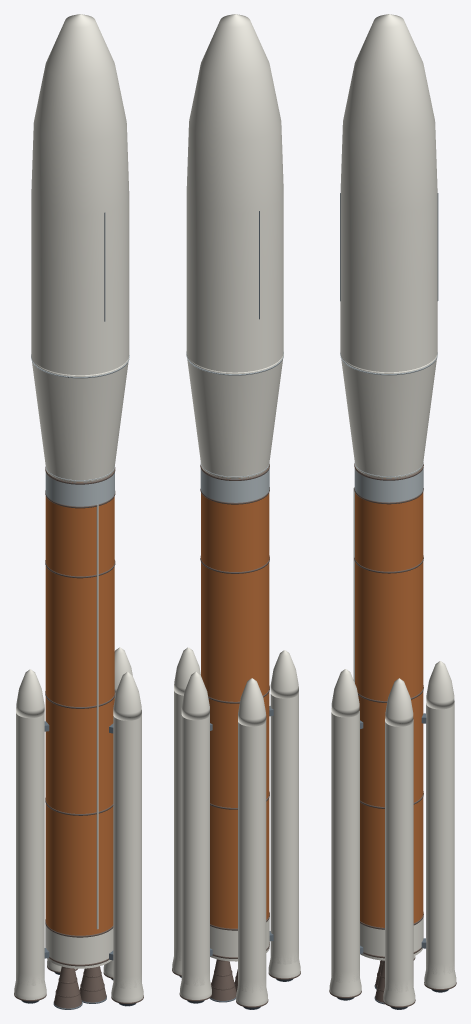
The model's file is perseverance_atlas_v_541.glb.
3 renders of one model, left to right at view 1: azimuth 30°, elevation 25°; view 2: azimuth 210°, elevation 25°; view 3: azimuth 270°, elevation 25°, orthographic.
Parts seen in each view (by area): view 1: atlas_v_core.mesh_Spray-on_insulation, atlas_v_fairing_l.mesh_Warm_white_enamel, atlas_v_boattail.mesh_Warm_white_enamel, atlas_v_fairing_r.mesh_Warm_white_enamel, atlas_v_srb_01.mesh_Warm_white_enamel, atlas_v_srb_04.mesh_Warm_white_enamel, atlas_v_core.mesh_Warm_white_enamel, atlas_v_core.mesh_Satin_aluminum, atlas_v_core.mesh_Pale_thermal_blanket, atlas_v_core.mesh_Heat-stained_alloy, atlas_v_srb_01.nose.mesh_Warm_white_enamel, atlas_v_srb_04.nose.mesh_Warm_white_enamel (+5 smaller); view 2: atlas_v_fairing_r.mesh_Warm_white_enamel, atlas_v_core.mesh_Spray-on_insulation, atlas_v_boattail.mesh_Warm_white_enamel, atlas_v_fairing_l.mesh_Warm_white_enamel, atlas_v_srb_02.mesh_Warm_white_enamel, atlas_v_srb_04.mesh_Warm_white_enamel, atlas_v_srb_03.mesh_Warm_white_enamel, atlas_v_srb_01.mesh_Warm_white_enamel, atlas_v_core.mesh_Satin_aluminum, atlas_v_srb_04.nose.mesh_Warm_white_enamel, atlas_v_srb_02.nose.mesh_Warm_white_enamel, atlas_v_srb_03.nose.mesh_Warm_white_enamel (+7 smaller); view 3: atlas_v_fairing_r.mesh_Warm_white_enamel, atlas_v_core.mesh_Spray-on_insulation, atlas_v_boattail.mesh_Warm_white_enamel, atlas_v_srb_03.mesh_Warm_white_enamel, atlas_v_srb_02.mesh_Warm_white_enamel, atlas_v_srb_01.mesh_Warm_white_enamel, atlas_v_core.mesh_Satin_aluminum, atlas_v_core.mesh_Warm_white_enamel, atlas_v_srb_03.nose.mesh_Warm_white_enamel, atlas_v_srb_01.nose.mesh_Warm_white_enamel, atlas_v_srb_02.nose.mesh_Warm_white_enamel, atlas_v_core.mesh_Heat-stained_alloy (+5 smaller).
Part boxes in pixels (x1,y1,x2,y2): atlas_v_core.mesh_Spray-on_insulation: (45,471,114,935); atlas_v_fairing_l.mesh_Warm_white_enamel: (31,14,104,375); atlas_v_boattail.mesh_Warm_white_enamel: (31,356,128,480); atlas_v_fairing_r.mesh_Warm_white_enamel: (80,14,129,372); atlas_v_srb_01.mesh_Warm_white_enamel: (113,715,141,988); atlas_v_srb_04.mesh_Warm_white_enamel: (16,713,44,985); atlas_v_core.mesh_Warm_white_enamel: (45,924,113,968); atlas_v_core.mesh_Satin_aluminum: (45,471,114,506); atlas_v_core.mesh_Pale_thermal_blanket: (96,504,98,929); atlas_v_core.mesh_Heat-stained_alloy: (45,467,115,966); atlas_v_srb_01.nose.mesh_Warm_white_enamel: (113,672,141,720); atlas_v_srb_04.nose.mesh_Warm_white_enamel: (16,669,44,718); atlas_v_fairing_r.mesh_Warm_white_enamel: (186,14,259,372); atlas_v_core.mesh_Spray-on_insulation: (201,467,269,928); atlas_v_boattail.mesh_Warm_white_enamel: (186,354,283,476); atlas_v_fairing_l.mesh_Warm_white_enamel: (235,14,283,369); atlas_v_srb_02.mesh_Warm_white_enamel: (181,715,209,986); atlas_v_srb_04.mesh_Warm_white_enamel: (270,693,298,964); atlas_v_srb_03.mesh_Warm_white_enamel: (238,721,266,992); atlas_v_srb_01.mesh_Warm_white_enamel: (174,691,183,960); atlas_v_core.mesh_Satin_aluminum: (200,468,269,502); atlas_v_srb_04.nose.mesh_Warm_white_enamel: (270,650,298,698); atlas_v_srb_02.nose.mesh_Warm_white_enamel: (181,672,209,720); atlas_v_srb_03.nose.mesh_Warm_white_enamel: (238,678,266,726); atlas_v_fairing_r.mesh_Warm_white_enamel: (340,14,437,372); atlas_v_core.mesh_Spray-on_insulation: (355,467,423,927); atlas_v_boattail.mesh_Warm_white_enamel: (340,352,437,476); atlas_v_srb_03.mesh_Warm_white_enamel: (426,703,454,974); atlas_v_srb_02.mesh_Warm_white_enamel: (385,721,413,992); atlas_v_srb_01.mesh_Warm_white_enamel: (331,712,359,982); atlas_v_core.mesh_Satin_aluminum: (354,467,423,502); atlas_v_core.mesh_Warm_white_enamel: (360,917,423,960); atlas_v_srb_03.nose.mesh_Warm_white_enamel: (426,661,454,709); atlas_v_srb_01.nose.mesh_Warm_white_enamel: (331,669,359,717); atlas_v_srb_02.nose.mesh_Warm_white_enamel: (385,678,413,726); atlas_v_core.mesh_Heat-stained_alloy: (354,463,423,958).
Bounding box in the file's own units: 7.5 × 60 × 7.06.
